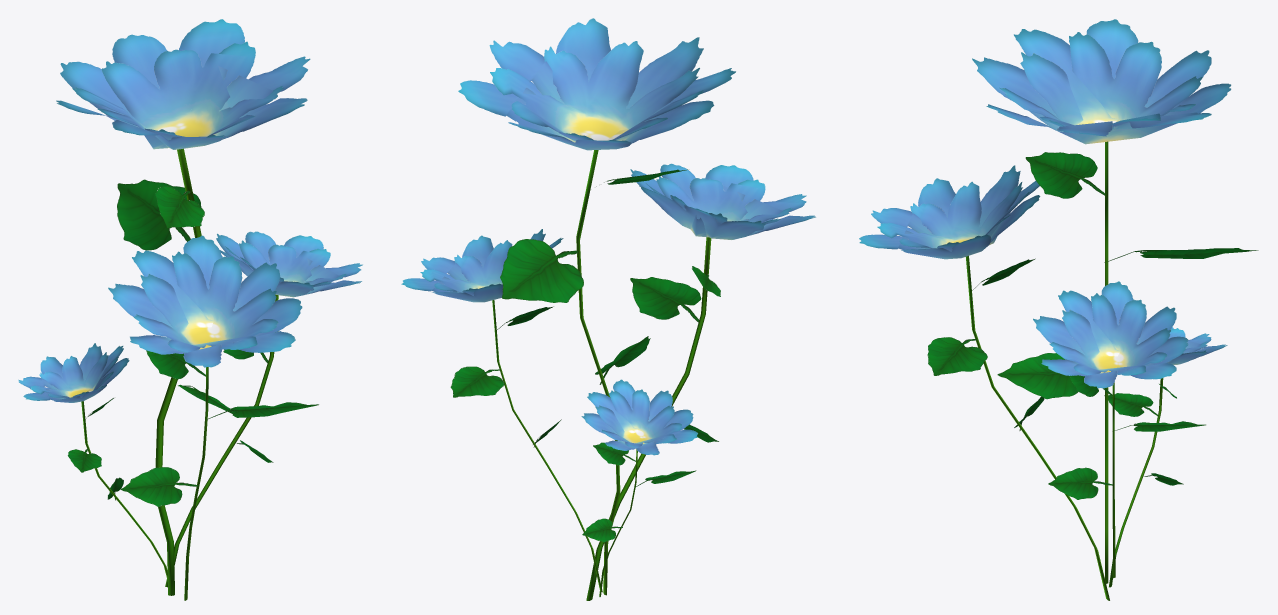
Rendered from blue_daisy.fbx.
3 views of the same model, side by side, from view 1: azimuth 30°, elevation 25°; view 2: azimuth 150°, elevation 25°; view 3: azimuth 270°, elevation 25° (orthographic).
Parts seen in each view (by area): view 1: çiç_1.004; view 2: çiç_1.004; view 3: çiç_1.004.
Part boxes in pixels (x1=…): çiç_1.004: x1=18, y1=19, x2=362, y2=600; çiç_1.004: x1=401, y1=18, x2=815, y2=600; çiç_1.004: x1=859, y1=19, x2=1258, y2=600.
Bounding box in the file's own units: 39.1 × 61.71 × 43.94.
